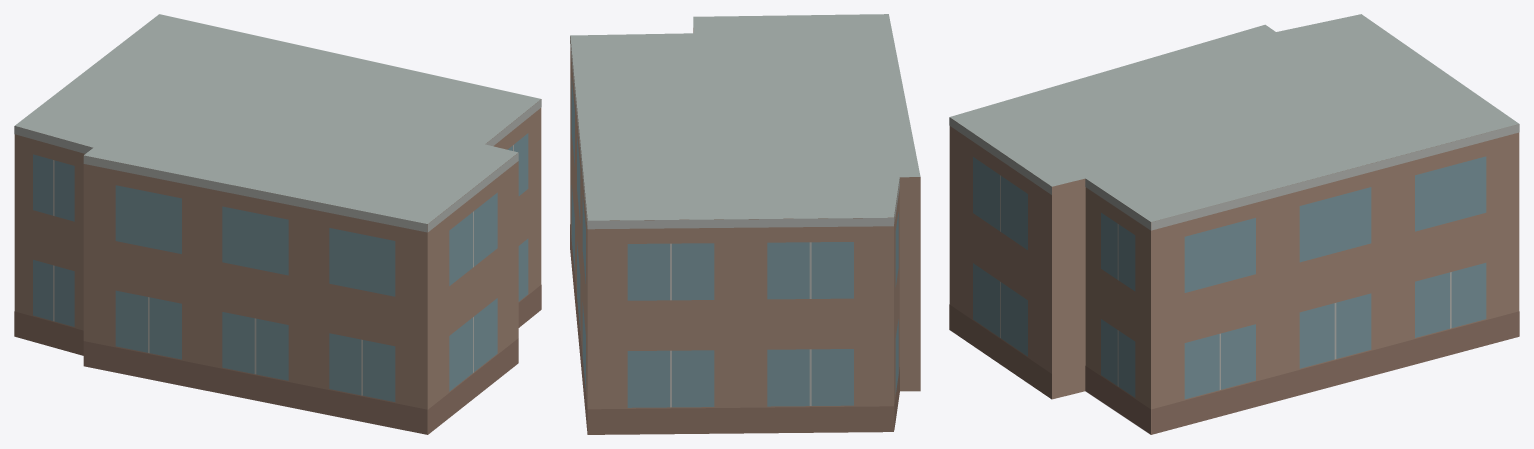
Rendered from survey-upis-32534822.glb.
The picture shows the model from 3 angles, left to right: view 1: azimuth 30°, elevation 25°; view 2: azimuth 150°, elevation 25°; view 3: azimuth 270°, elevation 25°; orthographic projection.
Visible parts, largest first — view 1: survey-upis-32534822.tmp; view 2: survey-upis-32534822.tmp; view 3: survey-upis-32534822.tmp.
Part boxes in pixels (x1,y1,x2,y2): survey-upis-32534822.tmp: [14, 14, 541, 434]; survey-upis-32534822.tmp: [570, 14, 920, 434]; survey-upis-32534822.tmp: [949, 14, 1519, 434].
Size of the model in its own units: 12.81 by 6.1 by 14.82.
